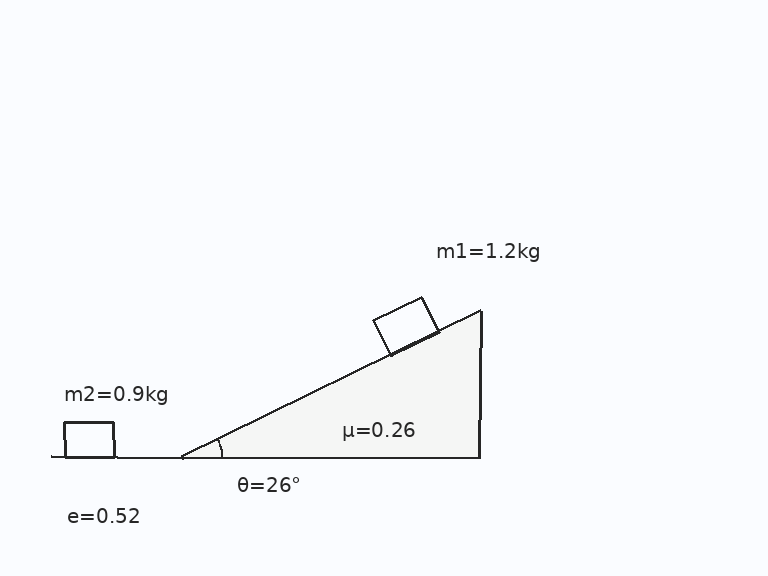block: (371, 295, 440, 357), (63, 419, 115, 459)
ramp: (180, 309, 482, 459)
